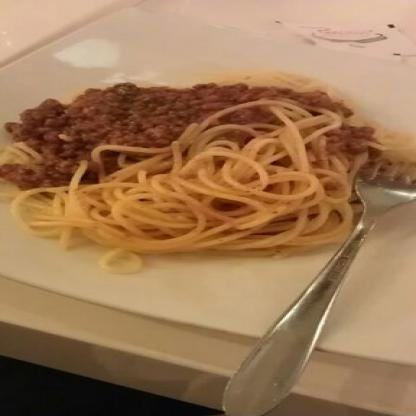pasta: (0, 78, 386, 260)
